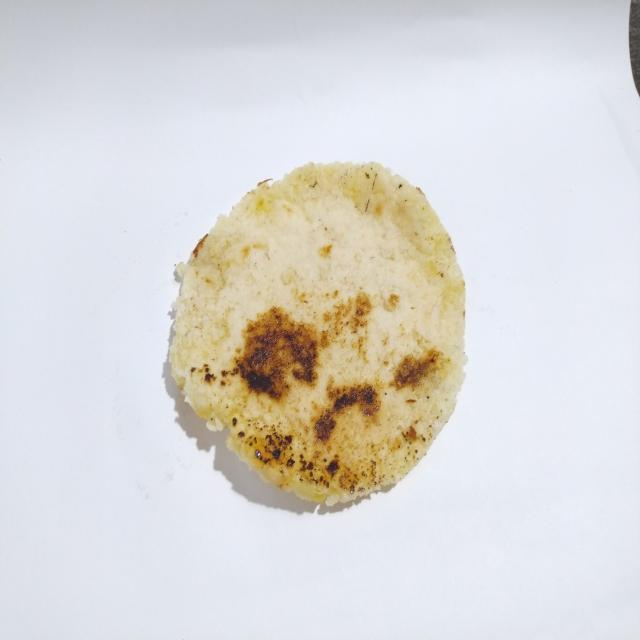Food: (158, 152, 474, 518)
